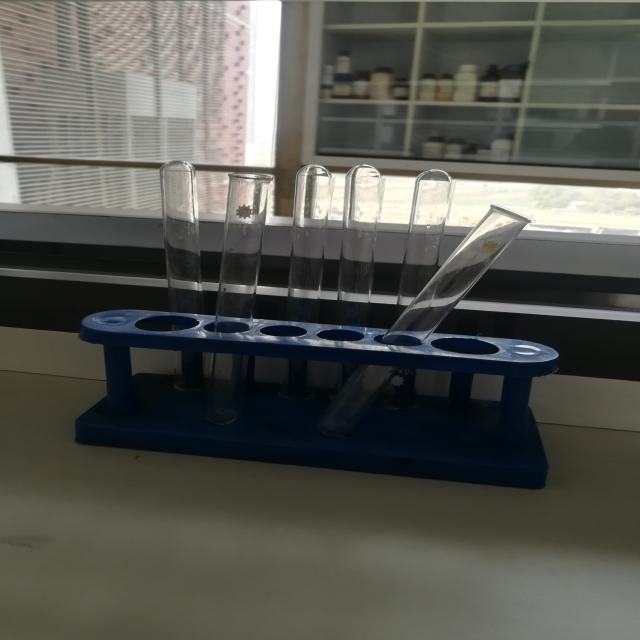Test_Tube: (125, 121, 549, 457)
